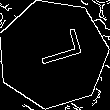L_W: (24, 32, 82, 77)
